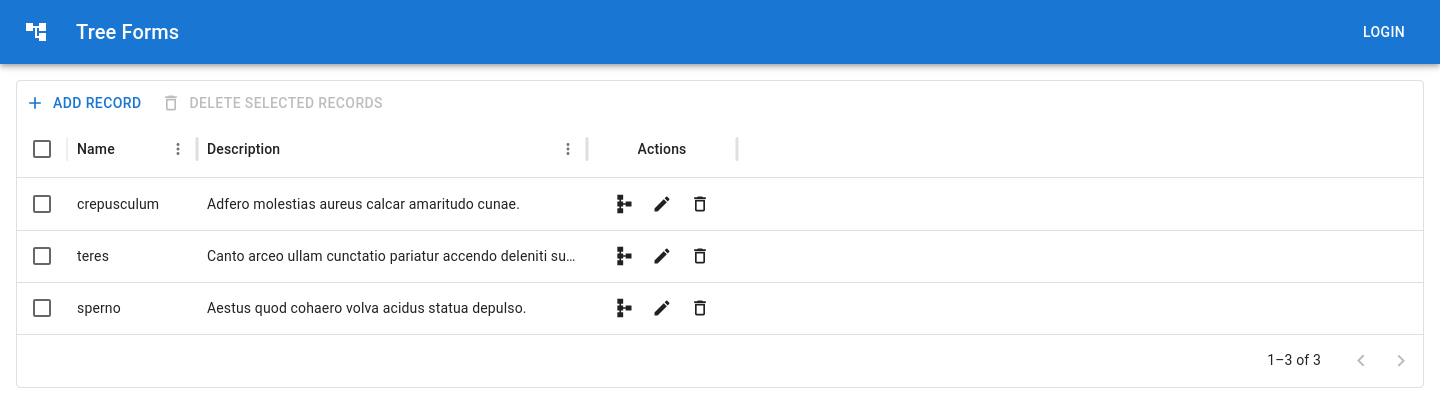
Test: should redirect to the form tree page when clicking on an item
Click the 1st menu item named "Access" at (624, 204), box [609,189,639,219]
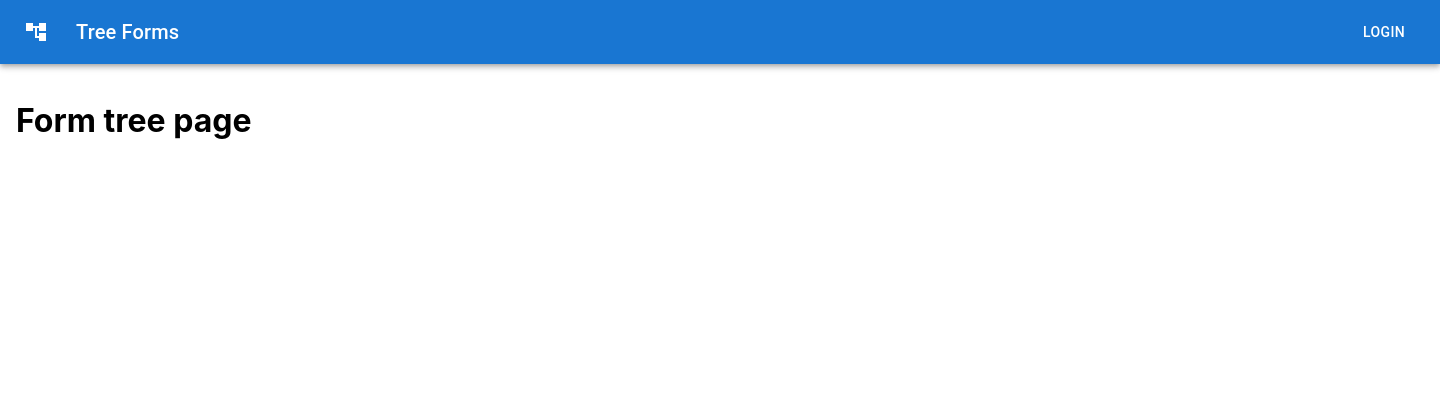
Expected: the heading "Form tree page" is shown, [16,101,252,140]
